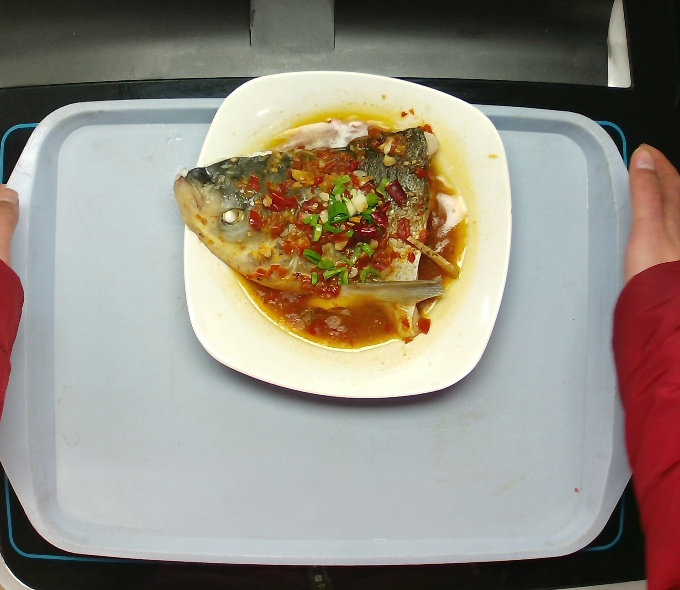wcq-DuoJiaoYuTou: (172, 96, 469, 363)
